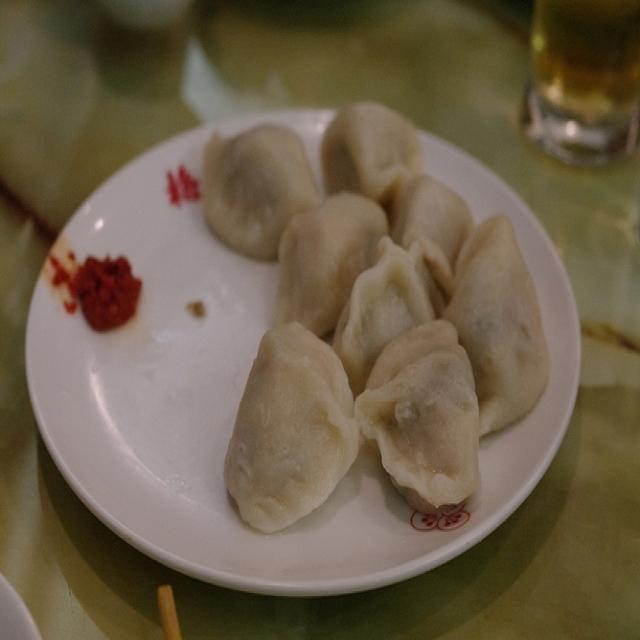带馅早点: (32, 69, 580, 588)
